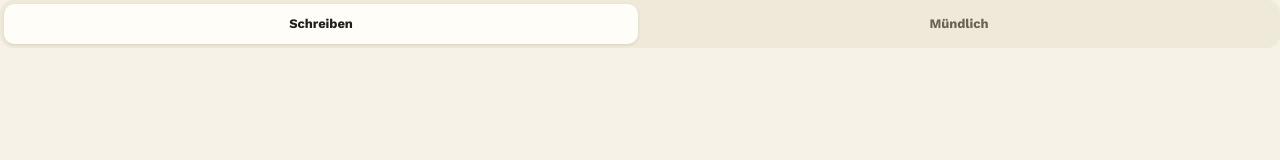
Test: Lernraum-UI-Grundbausteine › meldet den gewählten Wert im Segmentschalter
Click the button "Mündlich". click: x=959, y=24
box: [642,4,1276,44]
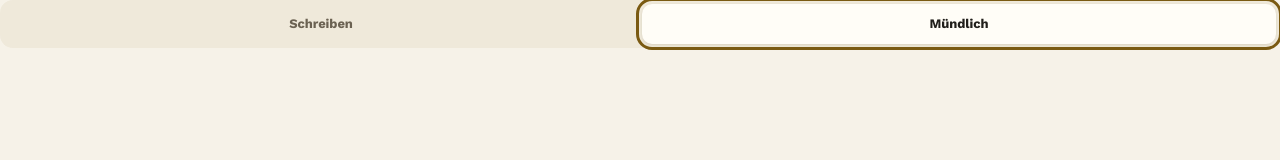
Expected: the element named "Modus" is shown, [0,0,1279,48]
Now the button "Mündlich" is pressed, box [642,4,1276,44]
